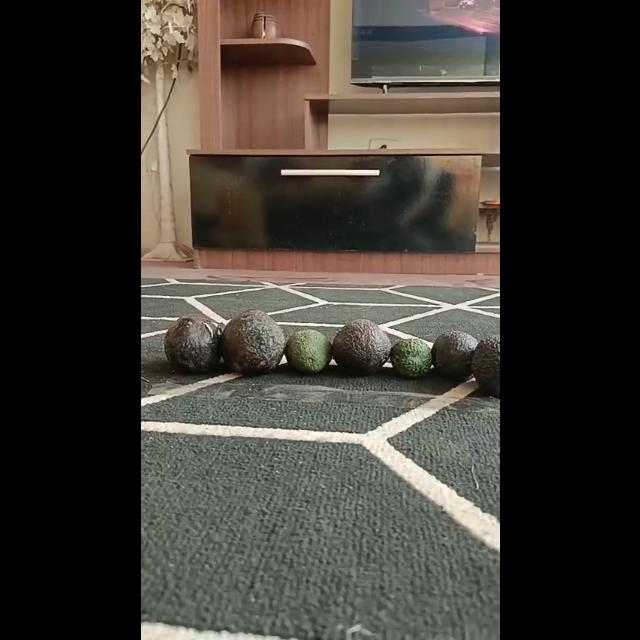Primera: (219, 308, 285, 374), (163, 315, 221, 373), (330, 320, 390, 374), (471, 335, 499, 399)
Segunda: (430, 330, 478, 378), (284, 329, 330, 373)
Tercera: (389, 338, 433, 378)
